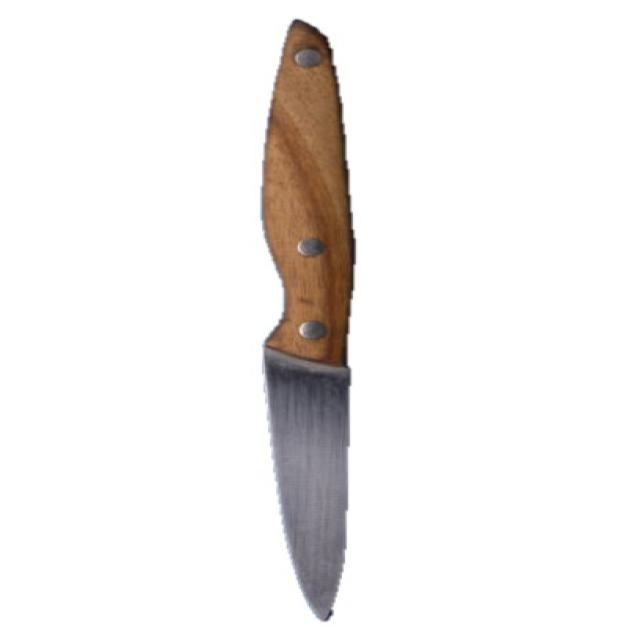knife: (243, 8, 396, 629)
